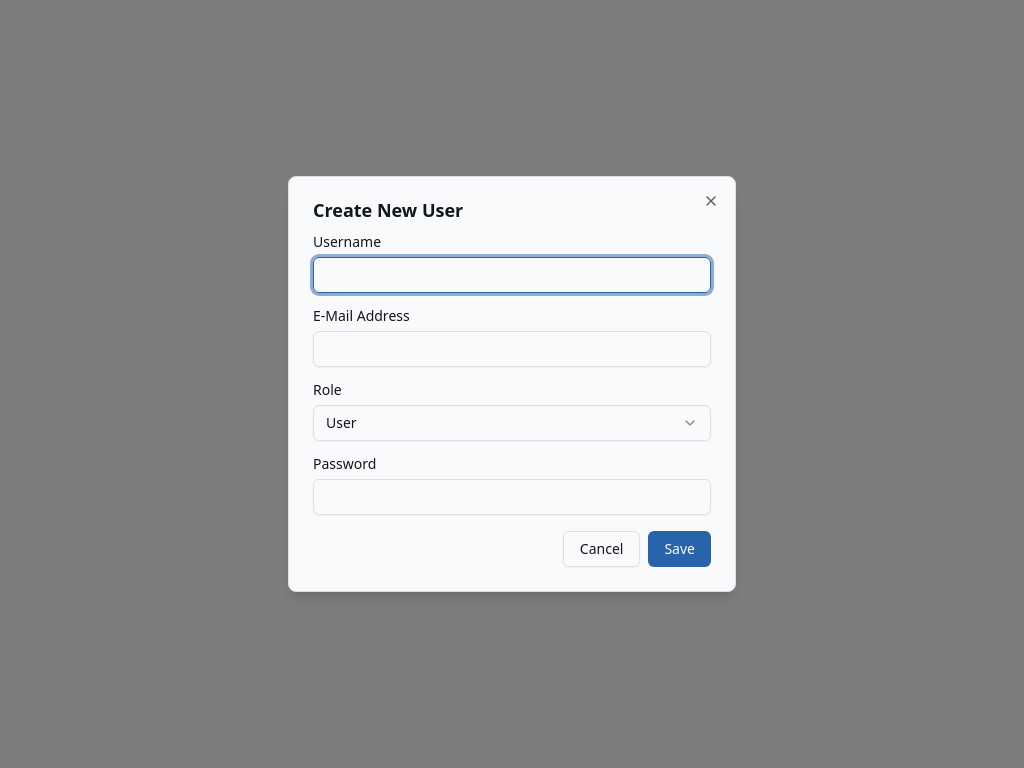
Test: UserFormDialog › shows the error the api reports
In the field labelled "Username": [512, 275] box [313,257,711,293], type "carol"
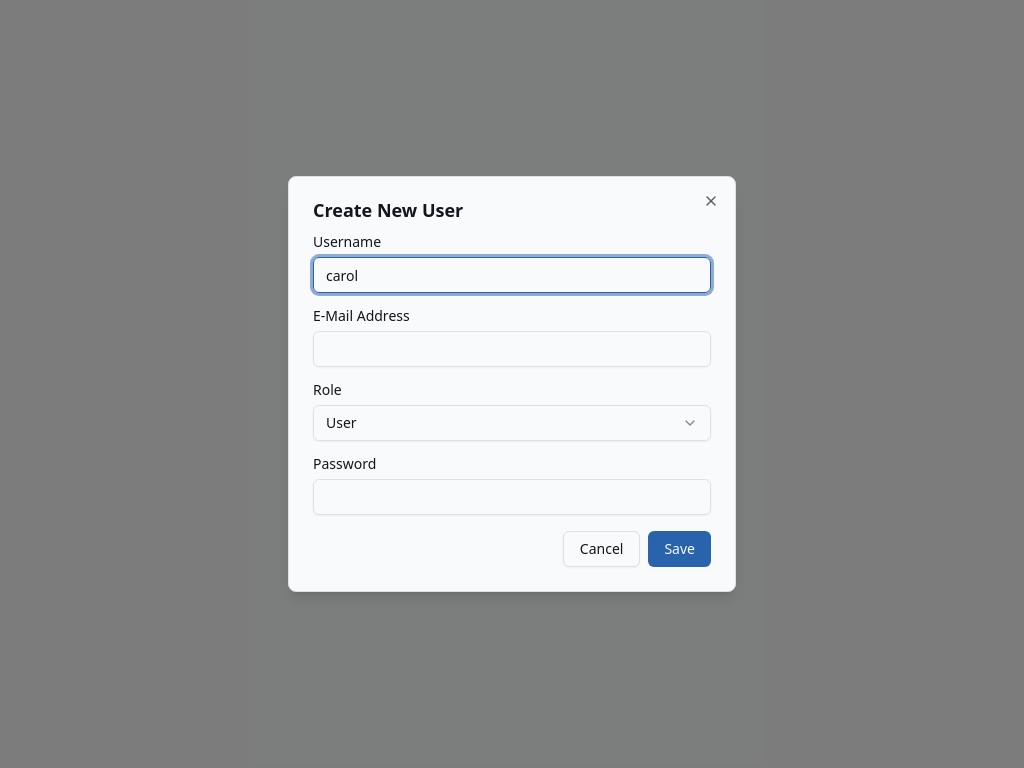
In the field labelled "E-Mail Address": [512, 349] box [313,331,711,367], type "carol@greyface.test"
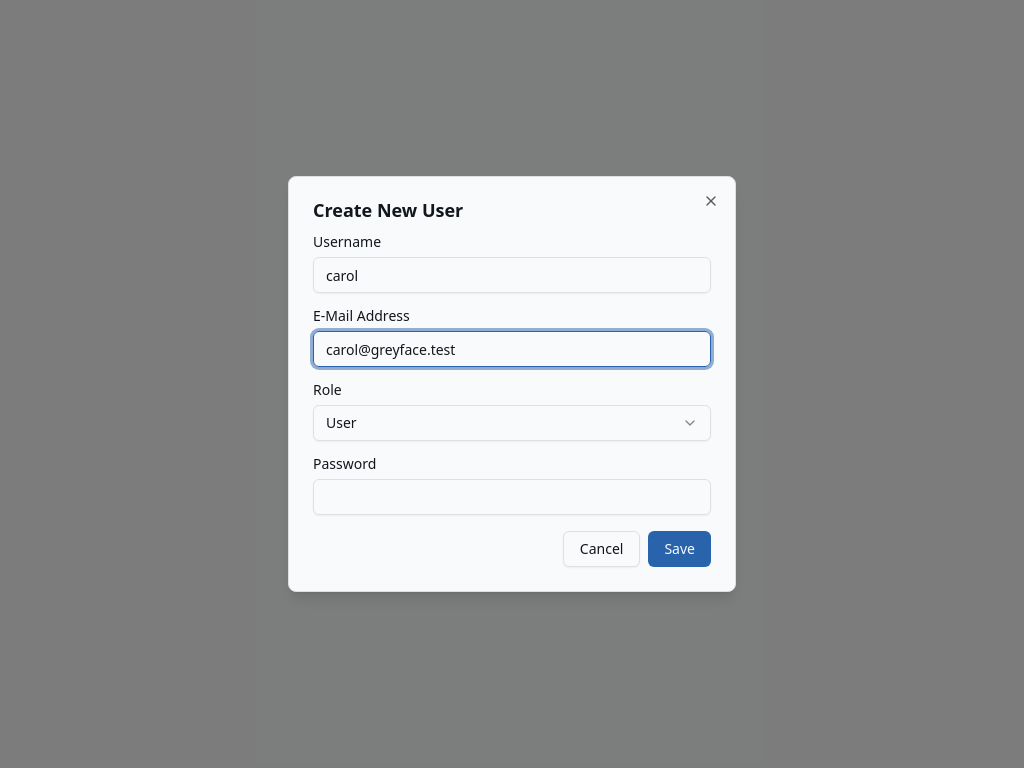
In the password field labelled "Password": [512, 497] box [313,479,711,515], type "sup3rsecret"
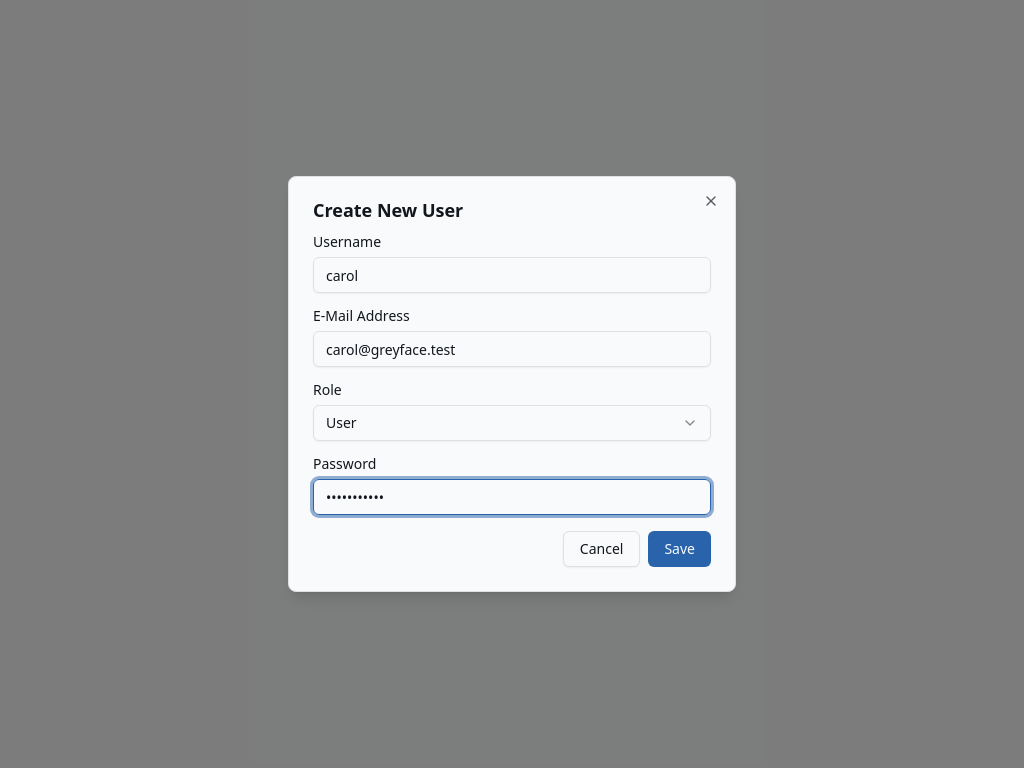
Click the button "Save": [680, 549] box [648,531,711,567]
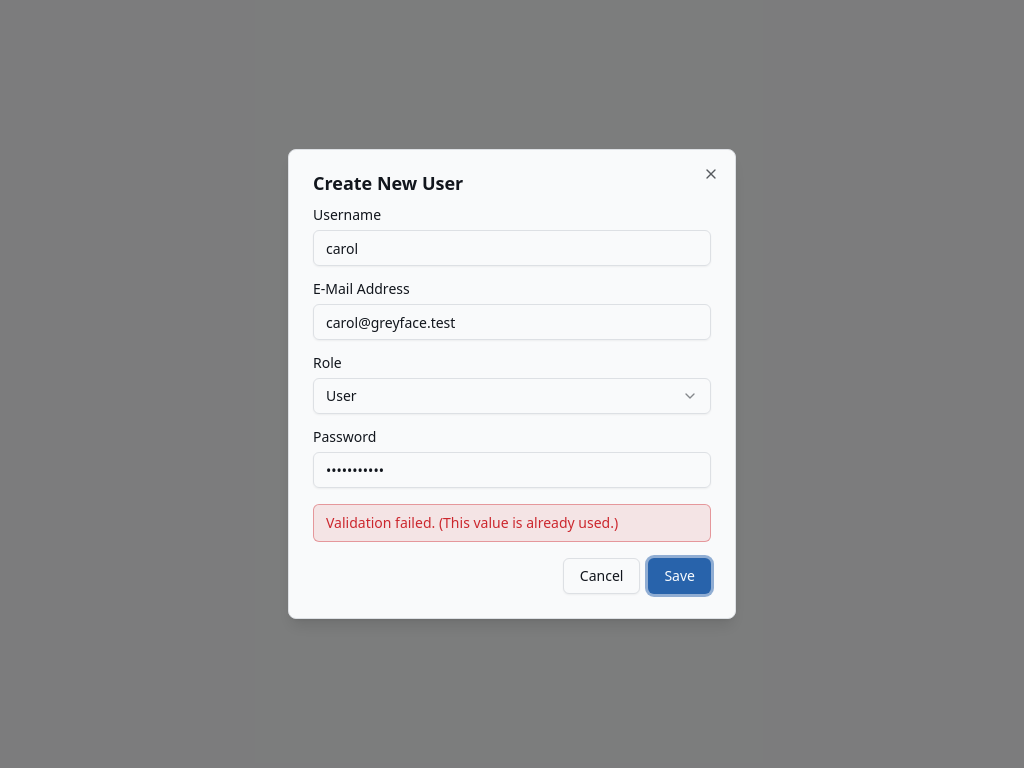
Check: the message shows "already used", box [326,513,618,532]
